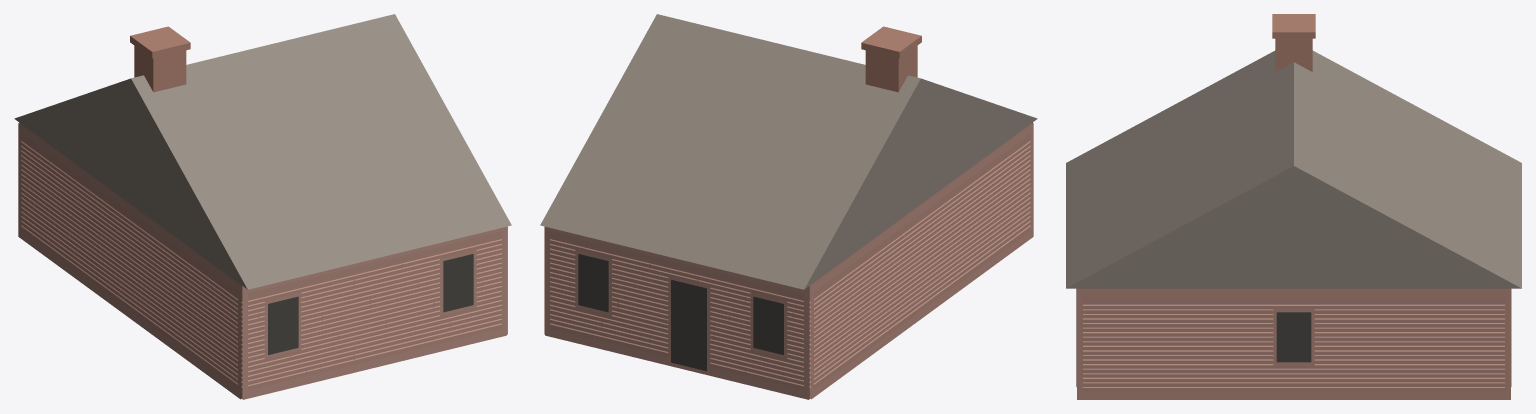
The model's file is recon_1835_north_d5_041__inferred_1835.glb.
3 views of the same model, side by side, from view 1: azimuth 30°, elevation 25°; view 2: azimuth 150°, elevation 25°; view 3: azimuth 270°, elevation 25° (orthographic). The views are drawn at different scales.
Parts seen in each view (by area): view 1: recon_1835_north_d5_041__inferred_1835; view 2: recon_1835_north_d5_041__inferred_1835; view 3: recon_1835_north_d5_041__inferred_1835.
Part boxes in pixels (bbox=[...]): recon_1835_north_d5_041__inferred_1835: bbox=[14, 14, 511, 399]; recon_1835_north_d5_041__inferred_1835: bbox=[540, 14, 1037, 399]; recon_1835_north_d5_041__inferred_1835: bbox=[1066, 14, 1521, 399].
Bounding box in the file's own units: 6.81 × 6.62 × 10.33.
